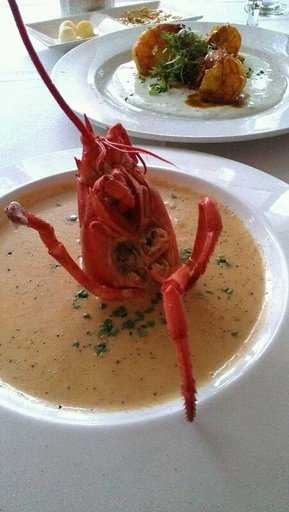soup: (1, 127, 239, 415)
